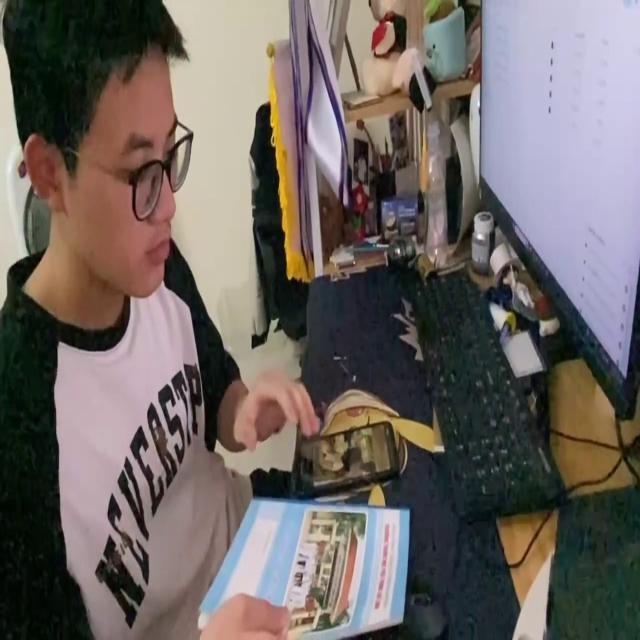book: (194, 490, 413, 640)
laptop: (476, 0, 640, 422)
phone: (288, 418, 401, 491)
student: (0, 0, 324, 640)
